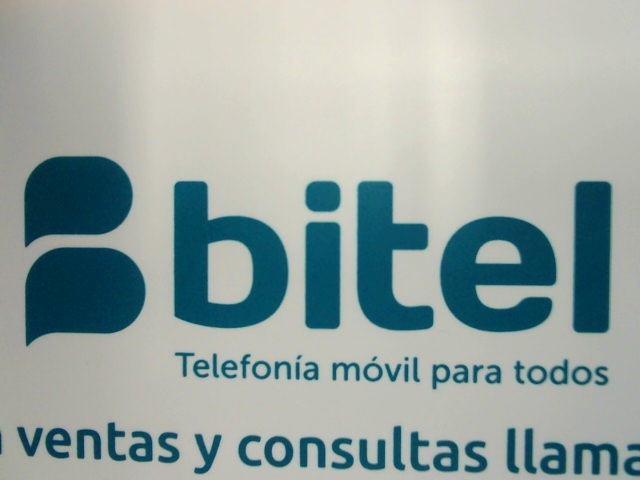BE_bitel: (11, 152, 622, 356)
